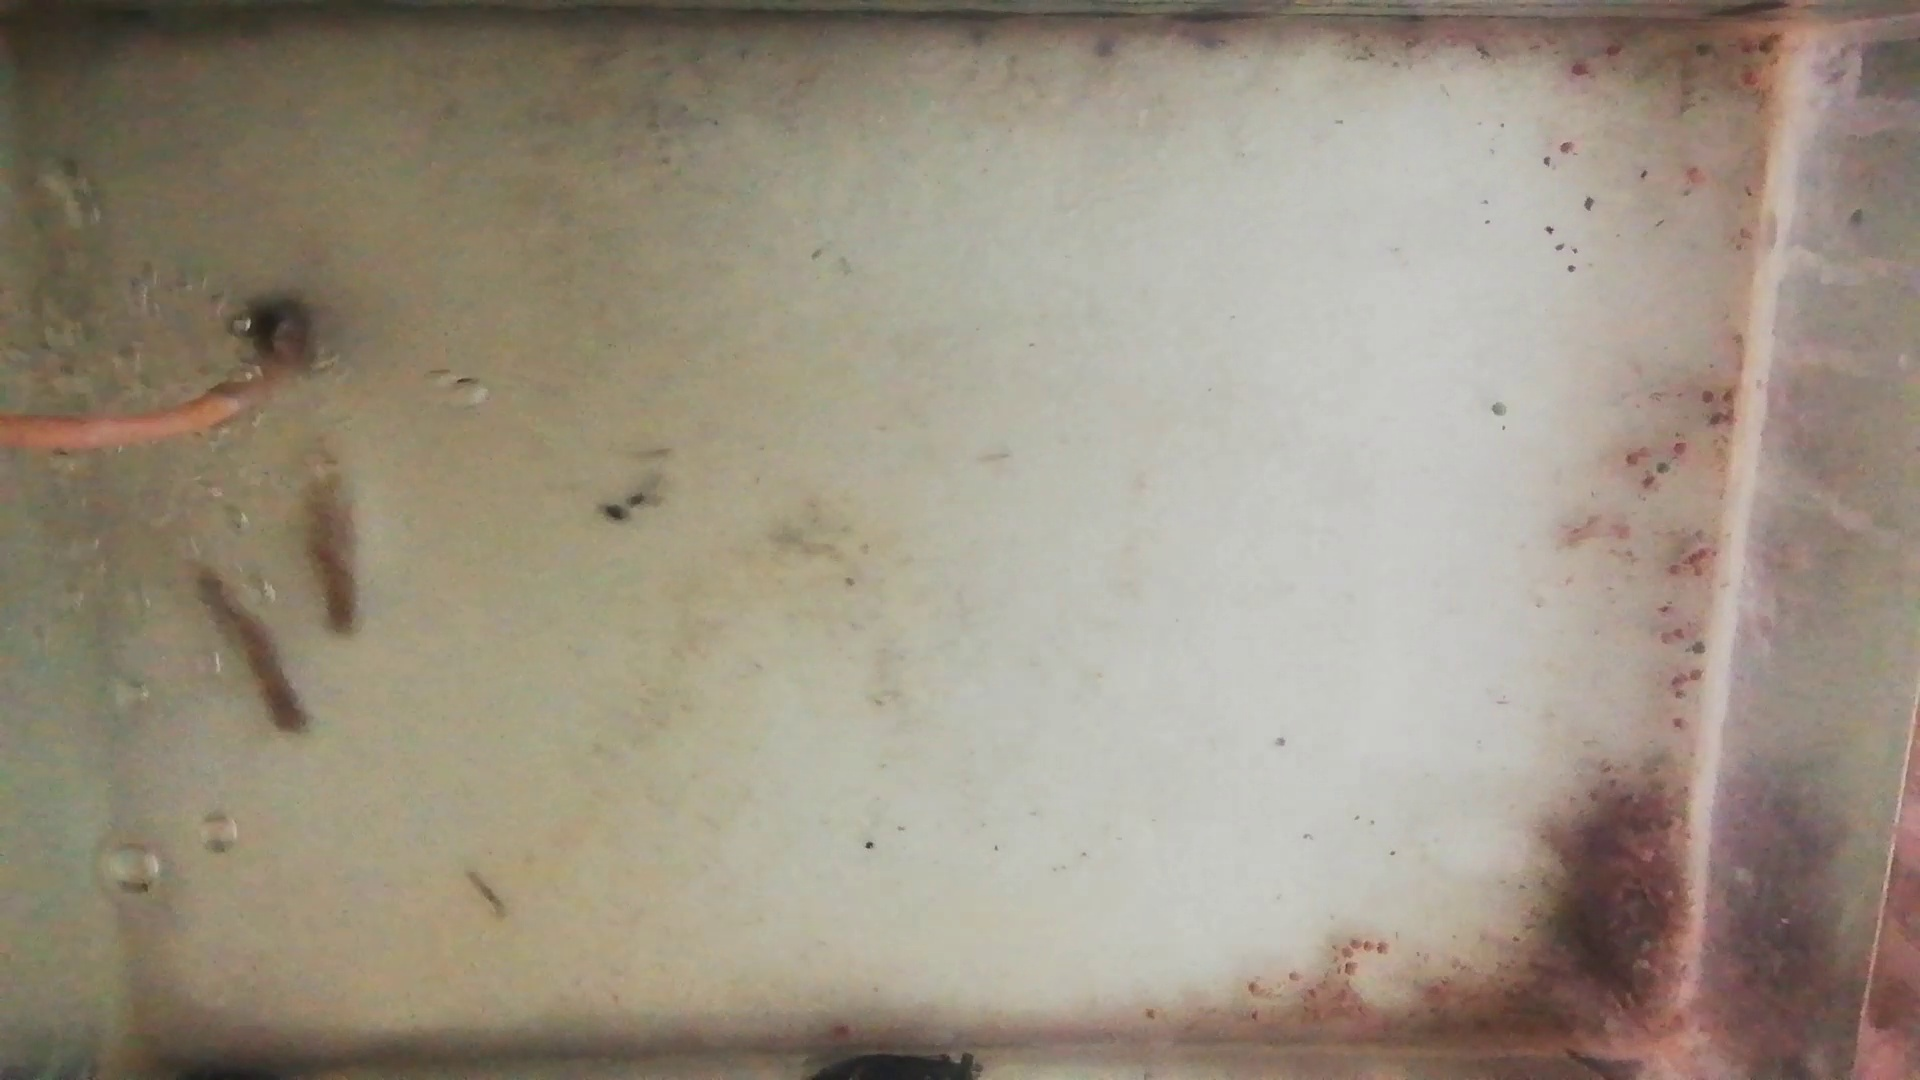fish: (185, 554, 313, 738), (309, 450, 363, 642)
